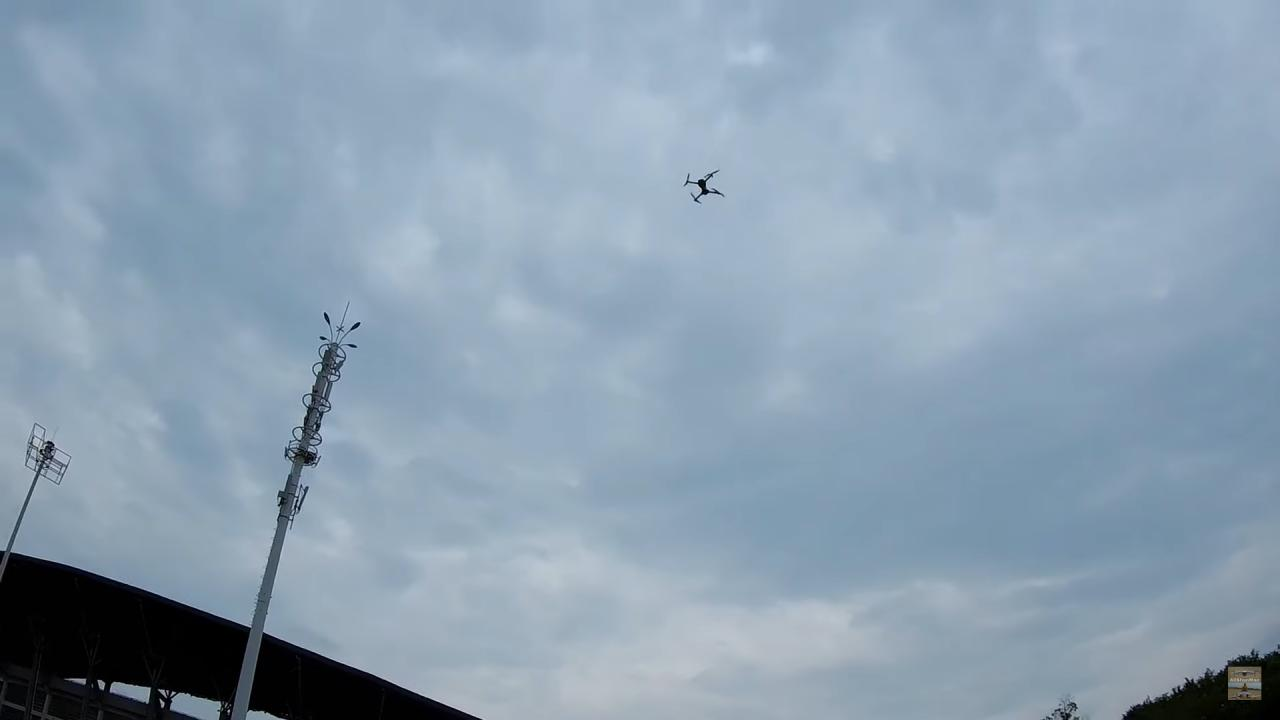Drone: (676, 162, 734, 212)
